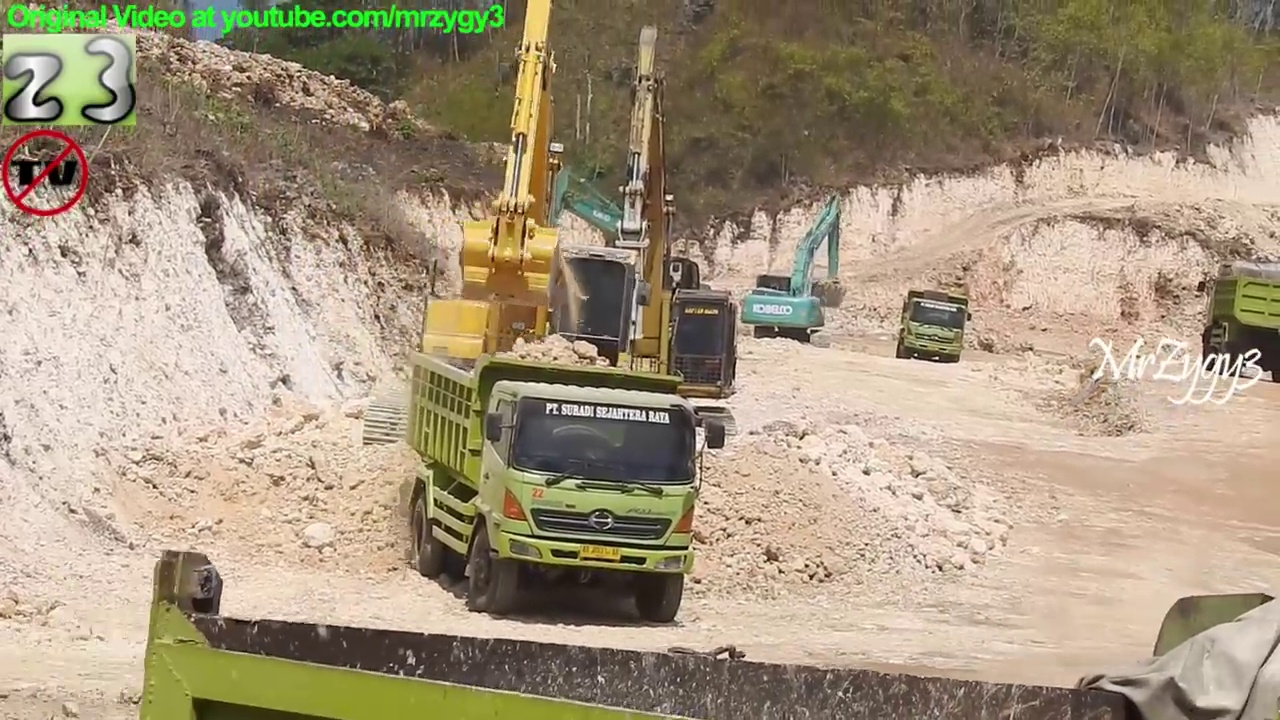excavator: (360, 1, 689, 459), (420, 2, 741, 455), (741, 192, 851, 345)
truck: (137, 547, 1280, 720), (403, 350, 733, 633), (1200, 264, 1280, 384), (895, 288, 974, 365)
